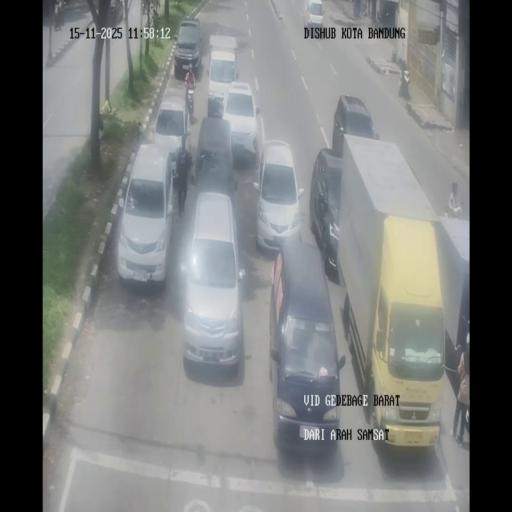car: (269, 240, 341, 454), (180, 191, 245, 371), (117, 144, 175, 285), (254, 135, 303, 254), (309, 148, 343, 281), (152, 94, 192, 180), (220, 80, 260, 162), (332, 94, 376, 157), (174, 16, 204, 76), (303, 0, 323, 28), (105, 0, 123, 25)
motorcycle: (398, 66, 411, 100), (54, 0, 64, 32), (185, 85, 194, 117), (151, 4, 160, 25)
truck: (333, 138, 463, 448), (208, 33, 237, 54)
